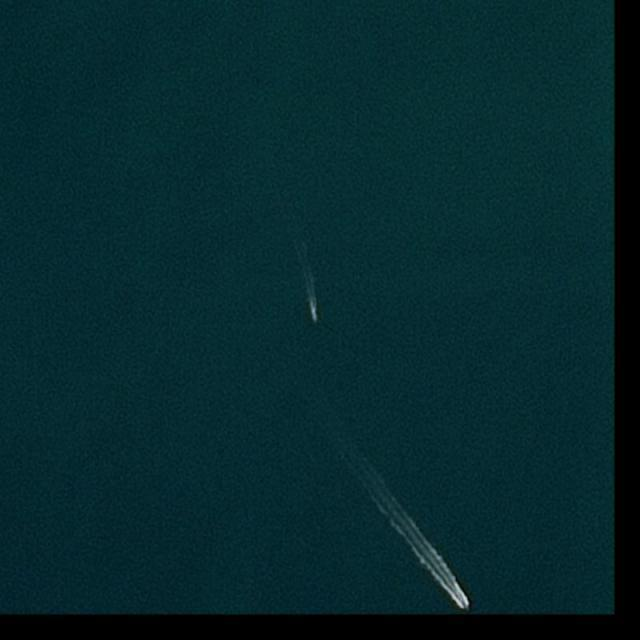ship: (456, 593, 474, 611), (312, 310, 318, 324)
